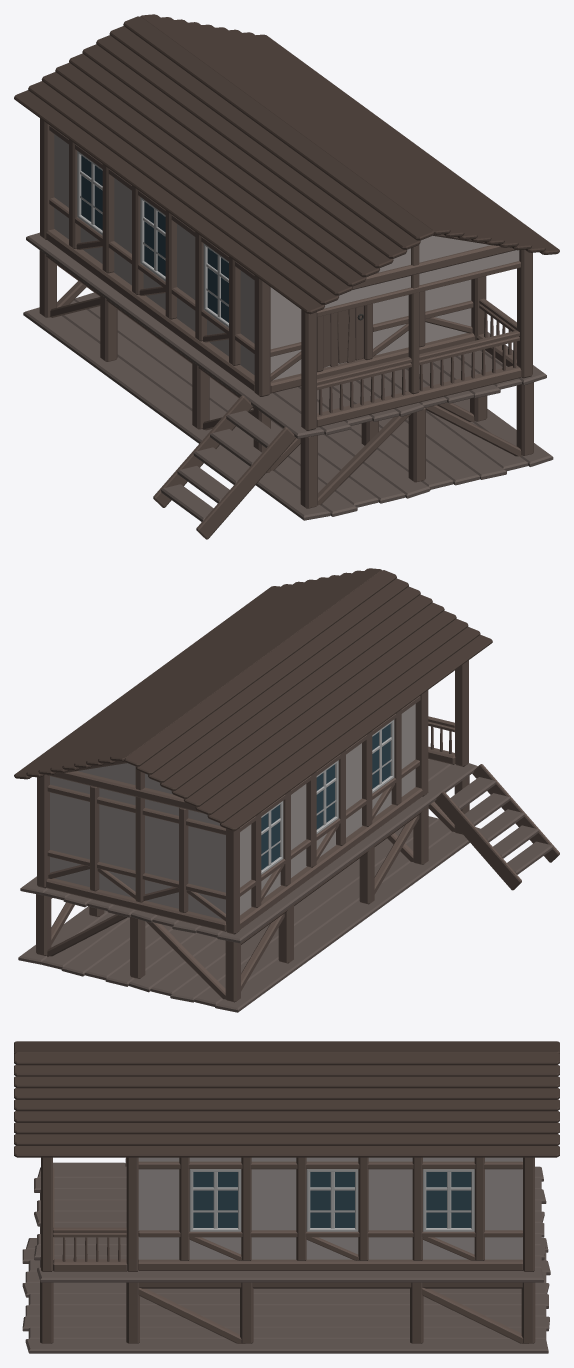
File: farmstractures_14.glb
The picture shows the model from 3 angles, top to bottom: view 1: azimuth 30°, elevation 25°; view 2: azimuth 150°, elevation 25°; view 3: azimuth 270°, elevation 25°; orthographic projection. The views are drawn at different scales.
Visible parts, largest first — view 1: farmstractures_14; view 2: farmstractures_14; view 3: farmstractures_14.
Part boxes in pixels (bbox=[...]): farmstractures_14: bbox=[14, 14, 559, 539]; farmstractures_14: bbox=[14, 568, 559, 1012]; farmstractures_14: bbox=[14, 1041, 559, 1353].
Bounding box in the file's own units: 6.6 × 4.91 × 9.77.
Materials: 1 (1 with a texture image).
